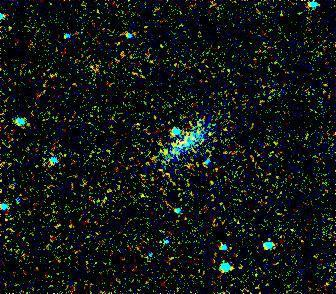star: (148, 139, 178, 169)
